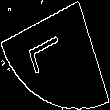L_E: (32, 31, 78, 79)
